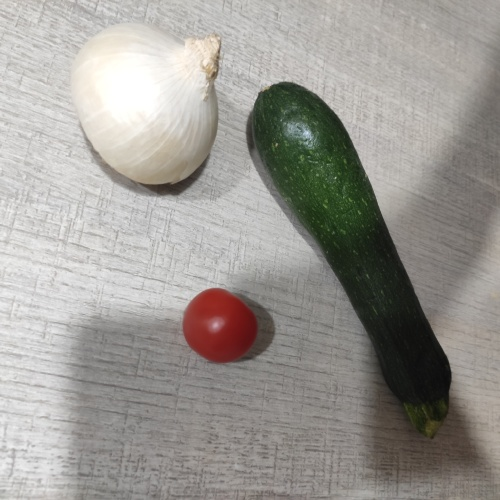cipolla: (77, 21, 222, 194)
pomodoro: (178, 279, 268, 373)
zucchine: (257, 82, 474, 446)
